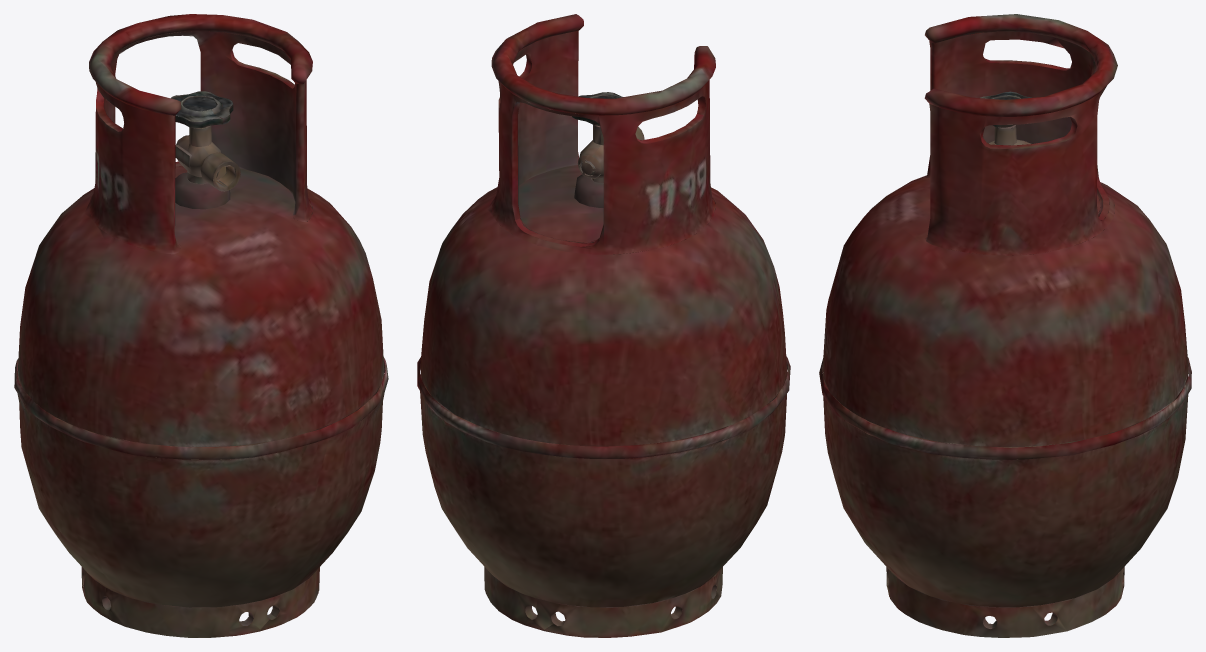
File: lpg_tank.glb
3 renders of one model, left to right at view 1: azimuth 30°, elevation 25°; view 2: azimuth 150°, elevation 25°; view 3: azimuth 270°, elevation 25°, orthographic.
Visible parts, largest first — view 1: lpg_tank; view 2: lpg_tank; view 3: lpg_tank.
Part boxes in pixels (x1,y1,x2,y2): lpg_tank: (14, 14, 388, 637); lpg_tank: (417, 14, 790, 637); lpg_tank: (819, 14, 1191, 637).
Bounding box in the file's own units: 0.4101 × 0.6423 × 0.4091.
Materials: 1 (1 with a texture image).
